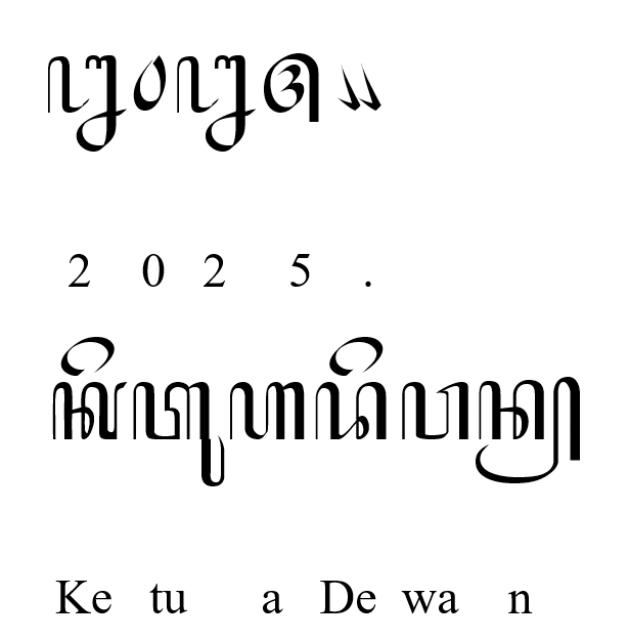-n: (476, 376, 582, 486)
0: (132, 54, 166, 110)
5: (264, 53, 320, 124)
K: (51, 382, 127, 441)
d: (315, 380, 389, 442)
e: (59, 335, 115, 377), (328, 337, 384, 378)
h: (228, 381, 306, 442)
kom: (358, 65, 382, 112), (339, 65, 361, 111)
ngna: (176, 54, 258, 152), (46, 54, 127, 152)
tu: (132, 380, 226, 488)
w: (402, 382, 470, 441)
